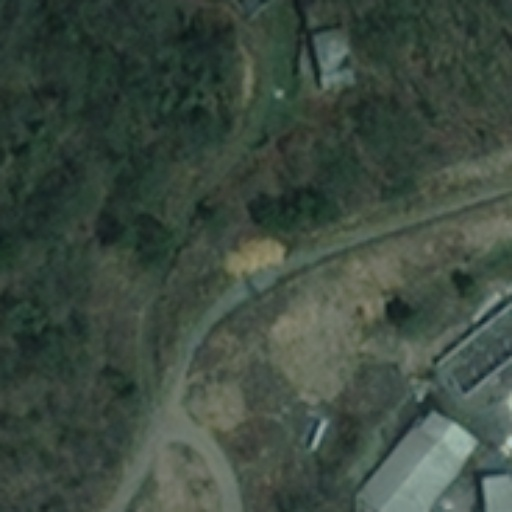landslide: (219, 233, 289, 275)
